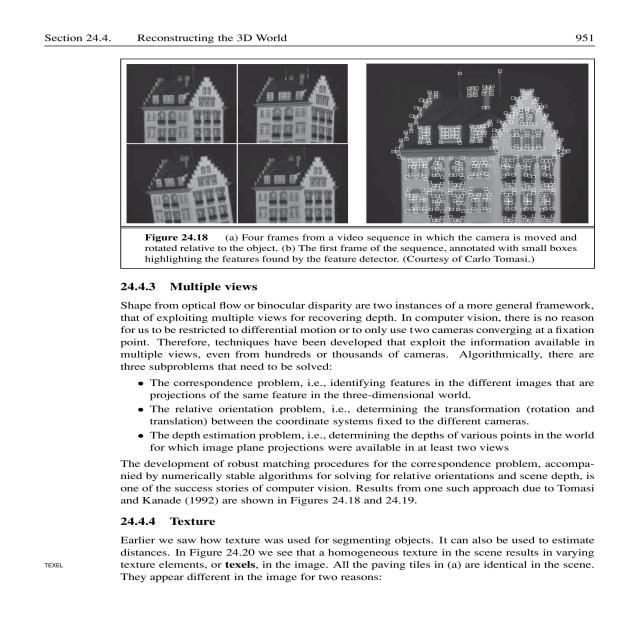diagram: (48, 51, 640, 263)
